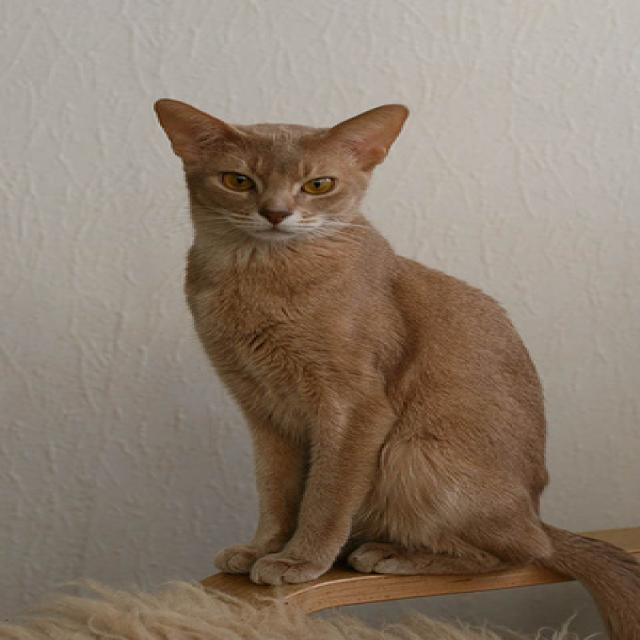Abyssinian: (149, 94, 640, 640)
